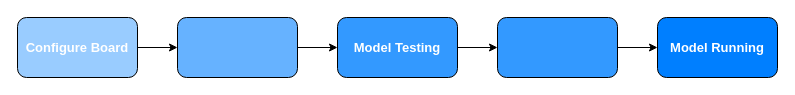
This 795x95 diagram has some shape labels left out. Here are the shapes that lost their labels. From the top down, the box of each, then its label:
(176, 16, 298, 78): Model Quantization
(496, 16, 618, 78): Model Compilation
